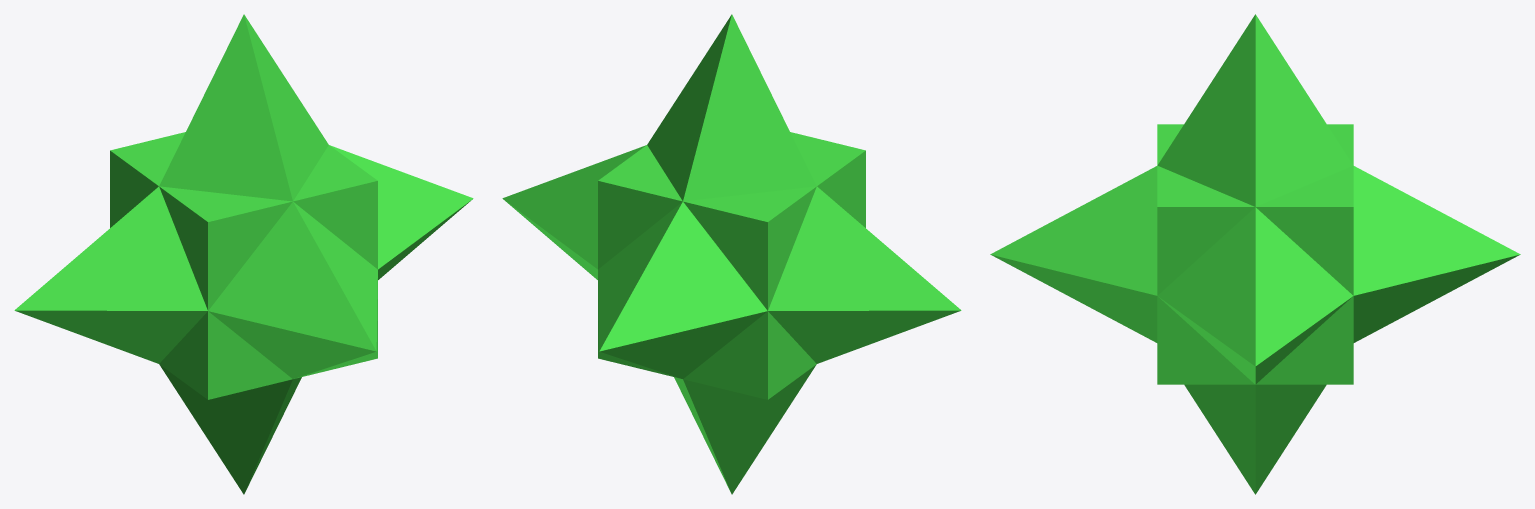
Rendered from greenstar.glb.
3 renders of one model, left to right at view 1: azimuth 30°, elevation 25°; view 2: azimuth 150°, elevation 25°; view 3: azimuth 270°, elevation 25°, orthographic.
Visible parts, largest first — view 1: Cube; view 2: Cube; view 3: Cube.
Boxes of the visible parts, <box> form: Cube: <box>14,14,473,494</box>; Cube: <box>502,14,961,494</box>; Cube: <box>990,14,1520,494</box>.
Size of the model in its own units: 1.4 by 1.4 by 1.4.
